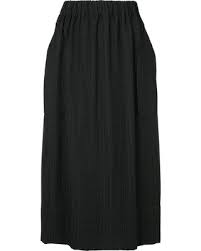S_skirt: (33, 1, 173, 251)
